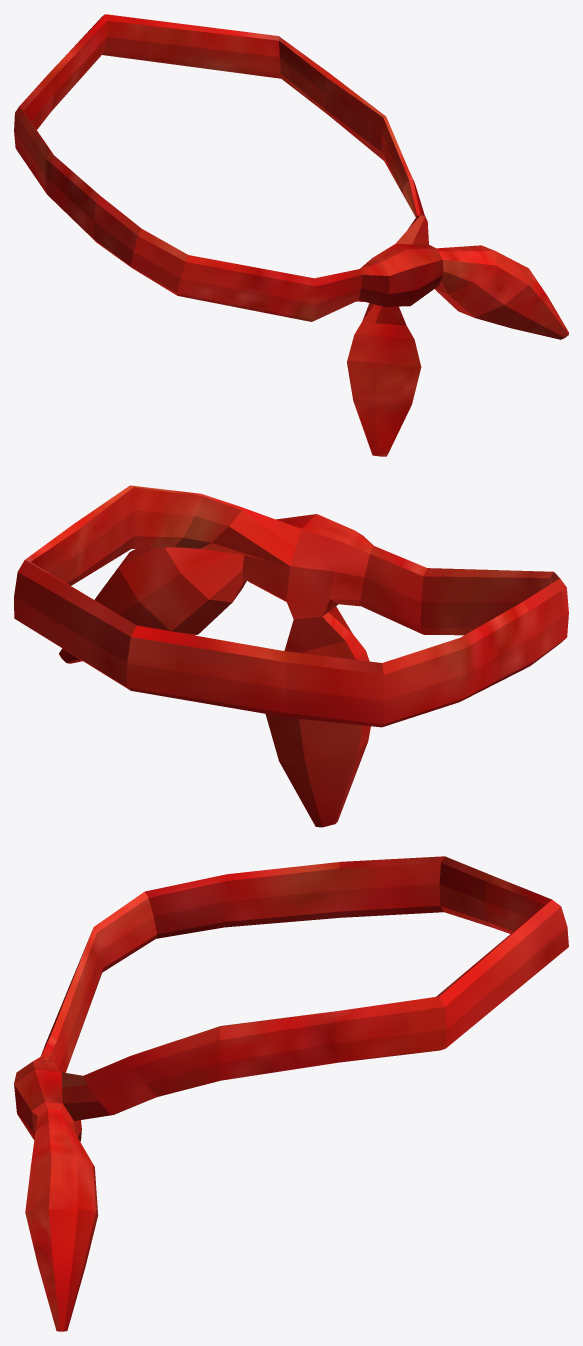
File: neckscarf.fbx
3 renders of one model, top to bottom at view 1: azimuth 30°, elevation 25°; view 2: azimuth 150°, elevation 25°; view 3: azimuth 270°, elevation 25°, orthographic. The views are drawn at different scales.
Parts seen in each view (by area): view 1: neckscarf; view 2: neckscarf; view 3: neckscarf.
Part boxes in pixels (x1,y1,x2,y2): neckscarf: [14, 14, 568, 456]; neckscarf: [14, 485, 568, 827]; neckscarf: [14, 856, 568, 1331].
Bounding box in the file's own units: 26.97 × 19.76 × 26.5.
